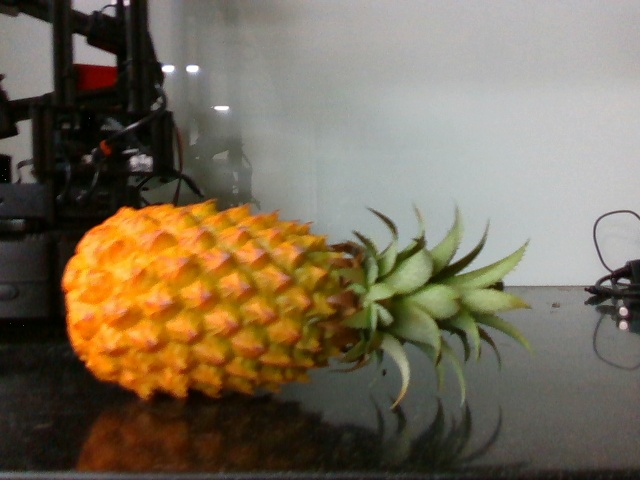pineapple: (58, 195, 536, 401)
